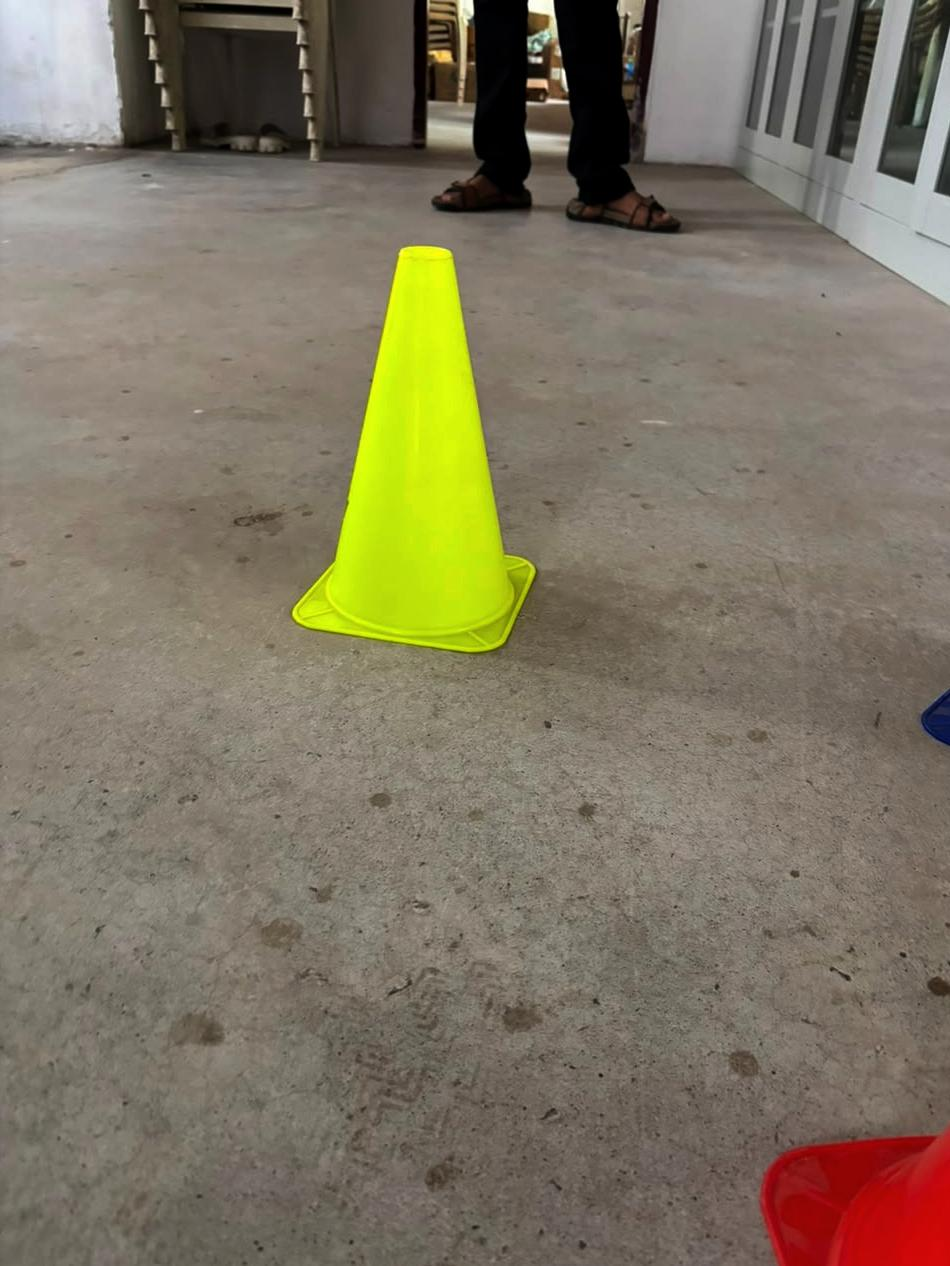0 cone: (292, 247, 535, 653)
